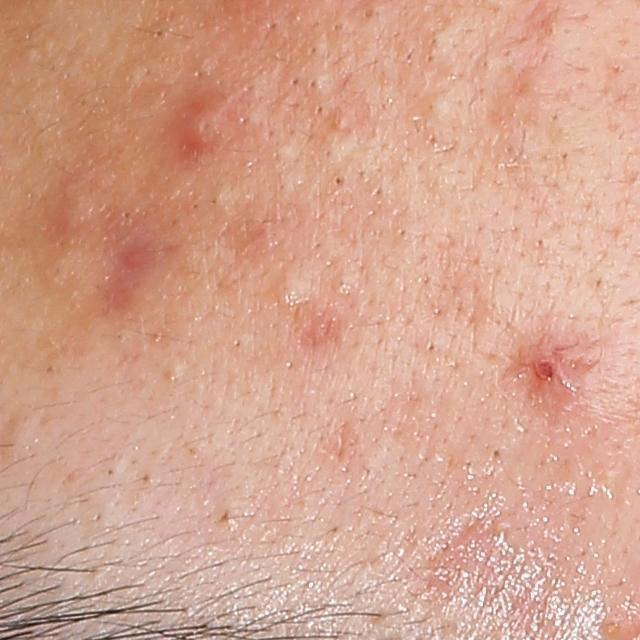comedo: (420, 90, 453, 118), (332, 275, 353, 298), (304, 74, 328, 93), (358, 3, 382, 22), (153, 26, 167, 42)
papule: (183, 105, 230, 155), (60, 179, 99, 232)
